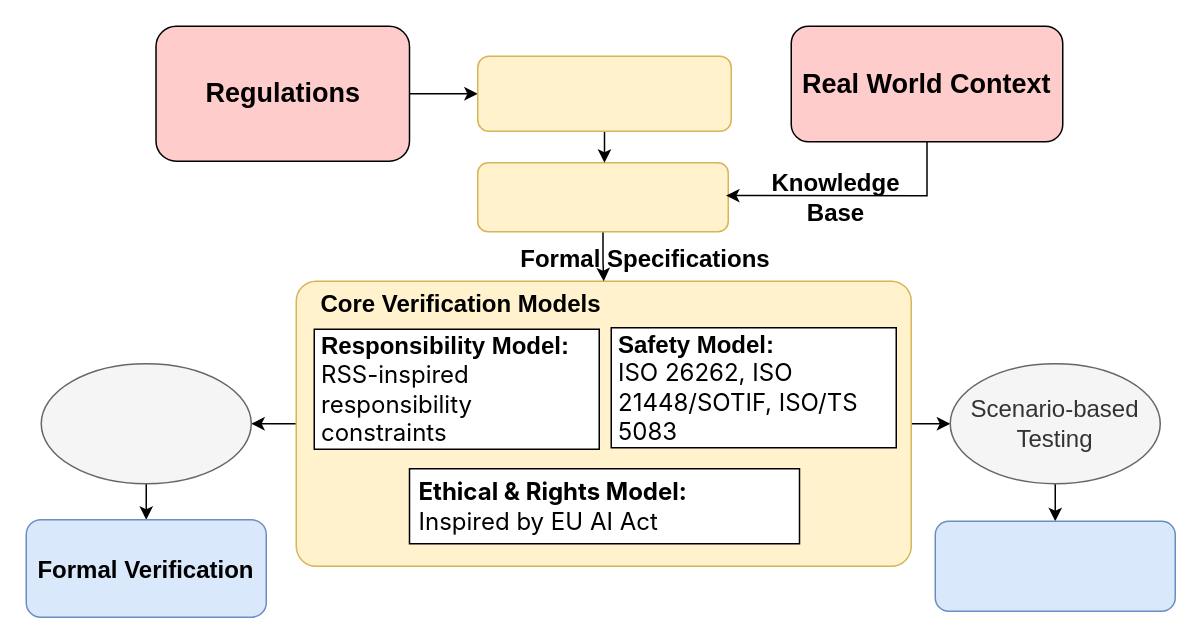
This 1202x644 diagram has some shape labels left out. The shapes that lost their labels are listed below. From the top down, each one's box as (x1, y1, x2, y2) in pixels, then its label:
(476, 55, 731, 131): Syntax Translator
(476, 161, 728, 232): Semantic interpreter
(40, 362, 251, 484): Model Checking
(934, 520, 1175, 611): Verification & Validation (V&V)
